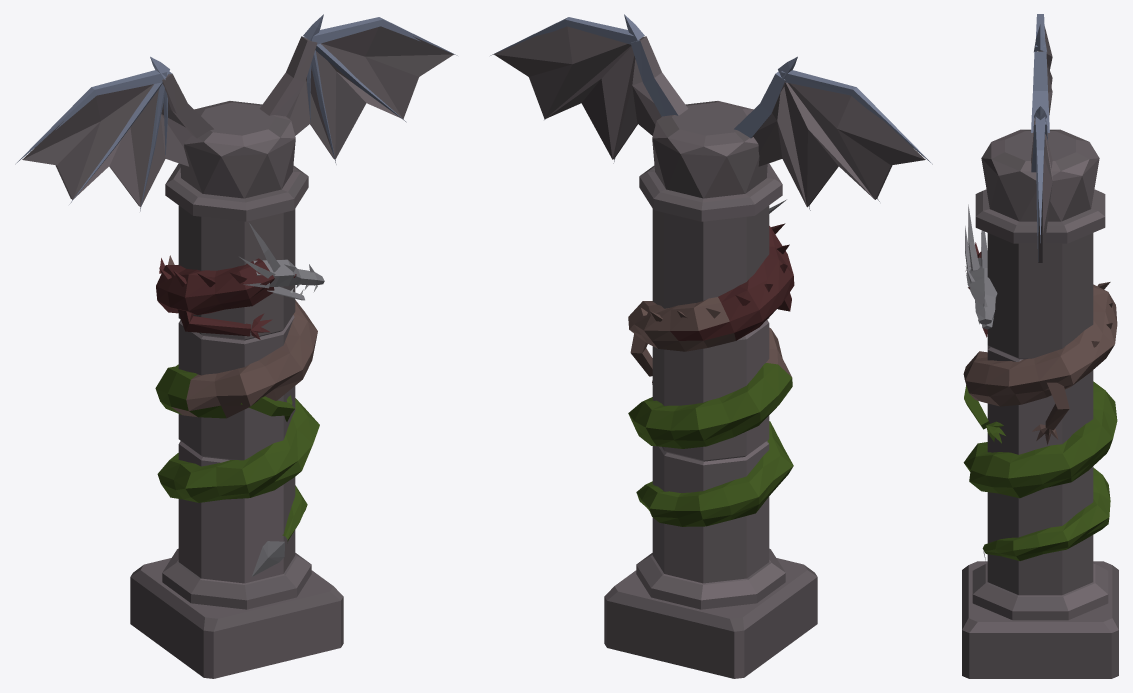
Rendered from stage4_coiled_dragon_pillar.glb.
3 renders of one model, left to right at view 1: azimuth 30°, elevation 25°; view 2: azimuth 150°, elevation 25°; view 3: azimuth 270°, elevation 25°, orthographic. The views are drawn at different scales.
Parts seen in each view (by area): view 1: coiled-dragon-pillar-mesh; view 2: coiled-dragon-pillar-mesh; view 3: coiled-dragon-pillar-mesh.
Boxes of the visible parts, x1,y1,x2,y2 form: coiled-dragon-pillar-mesh: (15, 14, 457, 678); coiled-dragon-pillar-mesh: (490, 14, 932, 678); coiled-dragon-pillar-mesh: (962, 14, 1118, 678).
Bounding box in the file's own units: 7 × 9 × 2.2.
